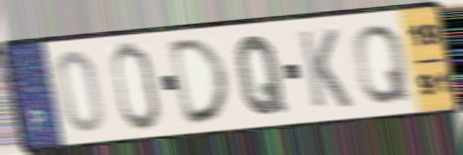0: (108, 39, 163, 134), (55, 48, 106, 135)
D: (167, 35, 235, 128)
K: (295, 26, 355, 110)
Q: (351, 22, 413, 106), (234, 32, 290, 118)
